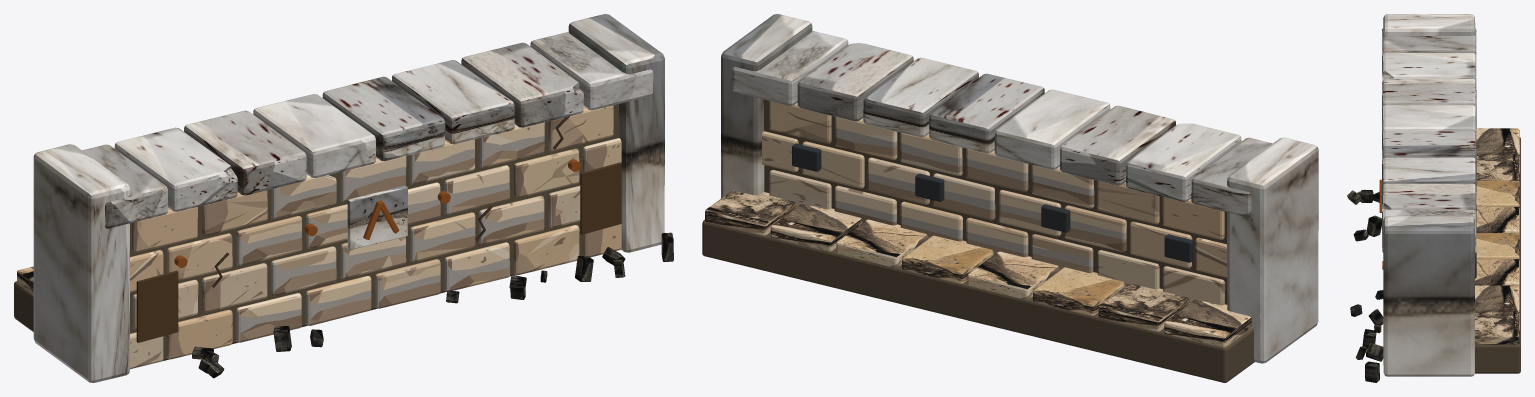
The model's file is parapet_combat_straight_4m_LOD0.glb.
The picture shows the model from 3 angles, left to right: view 1: azimuth 30°, elevation 25°; view 2: azimuth 150°, elevation 25°; view 3: azimuth 270°, elevation 25°; orthographic projection. The views are drawn at different scales.
Visible parts, largest first — view 1: CombatTerminalPier, CombatTerminalPier.001, ParapetCore, CombatCopingStone.002, CombatCopingStone.006, CombatCopingStone.005, CombatCopingStone.004, CombatCopingStone.003, CombatCopingStone.001, CombatCopingStone.007, CombatCopingStone, LambdaDedicationPlaque (+33 smaller); view 2: FiringStepCore, CombatTerminalPier, CombatTerminalPier.001, ParapetCore, CombatCopingStone.006, CombatCopingStone.002, CombatCopingStone.001, CombatCopingStone.003, CombatCopingStone.004, CombatCopingStone.005, CombatCopingStone.007, CombatCopingStone (+34 smaller); view 3: CombatTerminalPier.001, CombatCopingStone.005, CombatCopingStone.003, CombatCopingStone.004, CombatCopingStone.006, CombatCopingStone.001, CombatCopingStone.002, CombatTerminalPier, FiringStepCore, CombatCopingStone, FiringStepPaver.007, FiringStepPaver.006 (+12 smaller).
Boxes of the visible parts, x1,y1,x2,y2 form: CombatTerminalPier: [33, 144, 129, 382]; CombatTerminalPier.001: [568, 14, 664, 252]; ParapetCore: [130, 104, 619, 361]; CombatCopingStone.002: [184, 110, 306, 195]; CombatCopingStone.006: [461, 42, 583, 127]; CombatCopingStone.005: [392, 60, 514, 144]; CombatCopingStone.004: [322, 76, 445, 161]; CombatCopingStone.003: [253, 94, 375, 177]; CombatCopingStone.001: [114, 127, 237, 211]; CombatCopingStone.007: [530, 32, 653, 110]; CombatCopingStone: [82, 144, 167, 228]; LambdaDedicationPlaque: [347, 185, 407, 249]; FiringStepCore: [702, 220, 1254, 382]; CombatTerminalPier: [1227, 137, 1318, 363]; CombatTerminalPier.001: [721, 14, 812, 198]; ParapetCore: [764, 99, 1227, 304]; CombatCopingStone.006: [797, 43, 913, 121]; CombatCopingStone.002: [1060, 105, 1175, 185]; CombatCopingStone.001: [1126, 123, 1241, 201]; CombatCopingStone.003: [994, 89, 1110, 169]; CombatCopingStone.004: [929, 73, 1044, 153]; CombatCopingStone.005: [863, 57, 978, 137]; CombatCopingStone.007: [732, 30, 848, 105]; CombatCopingStone: [1191, 137, 1272, 217]; CombatTerminalPier.001: [1383, 216, 1474, 376]; CombatCopingStone.005: [1382, 157, 1476, 198]; CombatCopingStone.003: [1382, 105, 1476, 134]; CombatCopingStone.004: [1382, 131, 1476, 160]; CombatCopingStone.006: [1382, 183, 1476, 212]; CombatCopingStone.001: [1382, 53, 1476, 81]; CombatCopingStone.002: [1382, 79, 1476, 107]; CombatTerminalPier: [1383, 14, 1475, 35]; FiringStepCore: [1475, 137, 1520, 373]; CombatCopingStone: [1382, 28, 1476, 55]; FiringStepPaver.007: [1475, 311, 1519, 344]; FiringStepPaver.006: [1475, 285, 1519, 312].
Size of the model in its own units: 4.16 by 1.37 by 1.4.
Materials: 9 (4 with a texture image).
